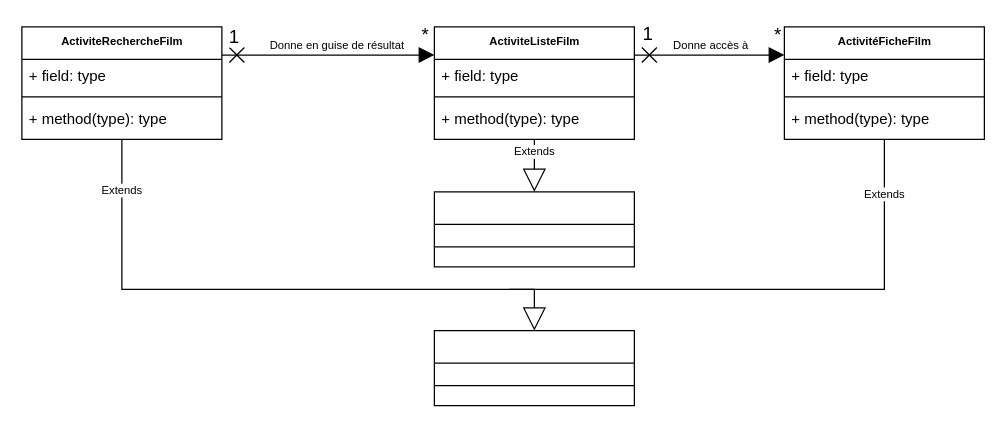
Image size: 1006x431. Some labels were removed from this diagram. Each missing label, with the centre of its shape:
"AppCompatActivity" goes at point 533,367.
"ExpandableListActivity" goes at point 533,229.
